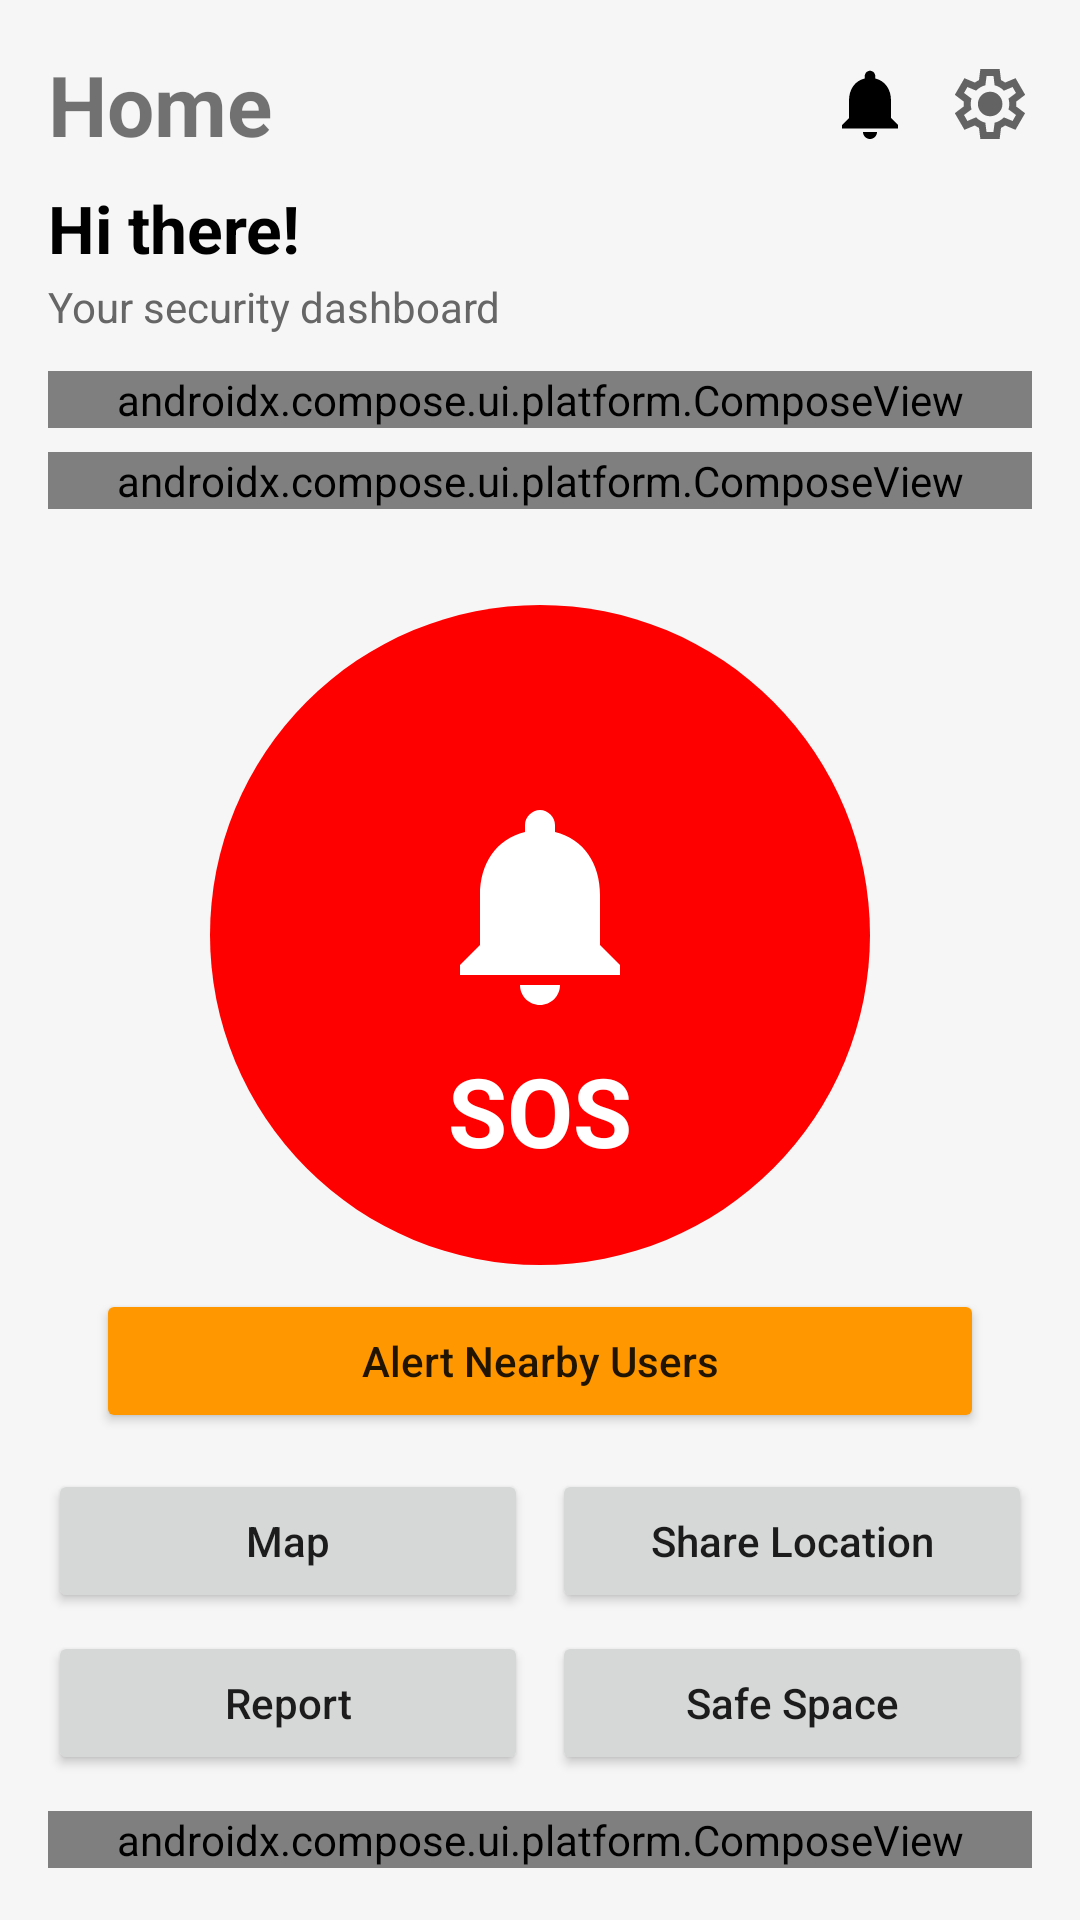

Point at icon controls on the screen. Image size 1080 x 1920, points as (x,y).
notification: (870,104)
settings: (990,104)
